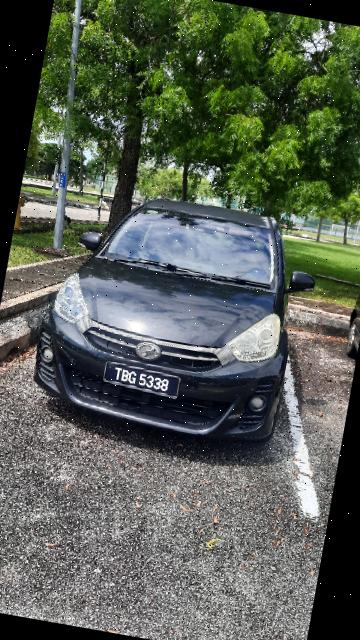License_Plate: (99, 358, 188, 406)
car: (23, 173, 326, 452)
